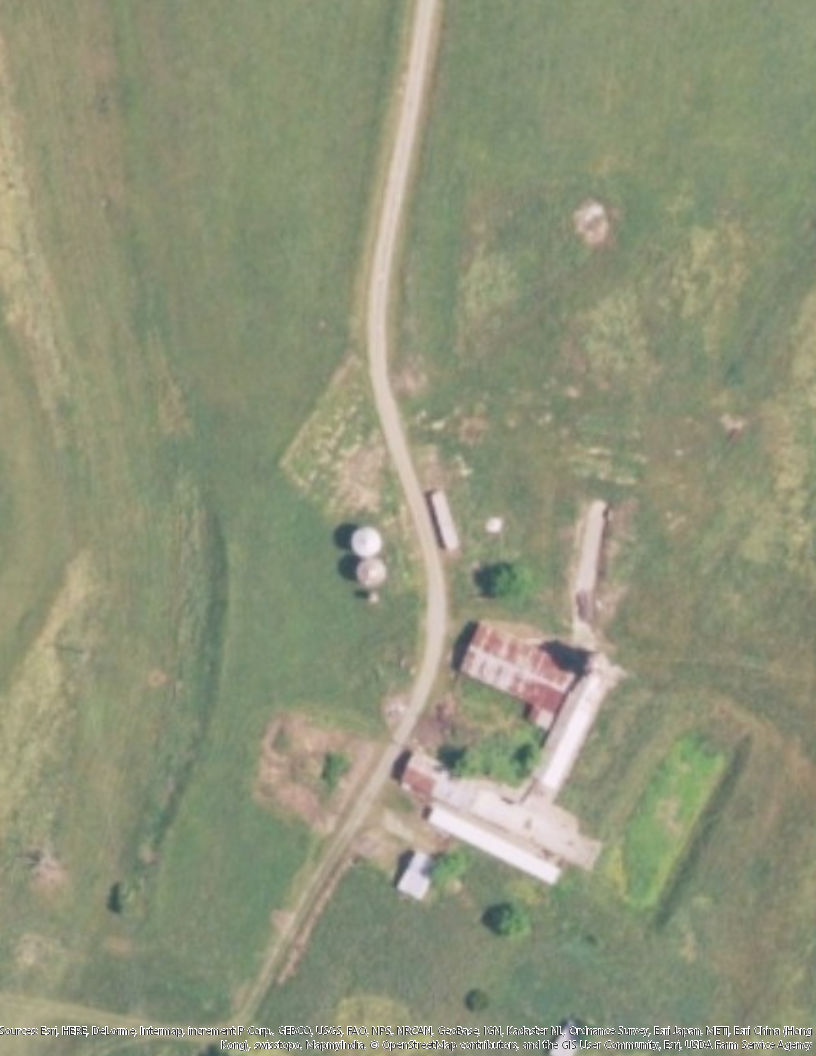cafo: (395, 724, 619, 891), (454, 612, 601, 715), (527, 670, 616, 788)
